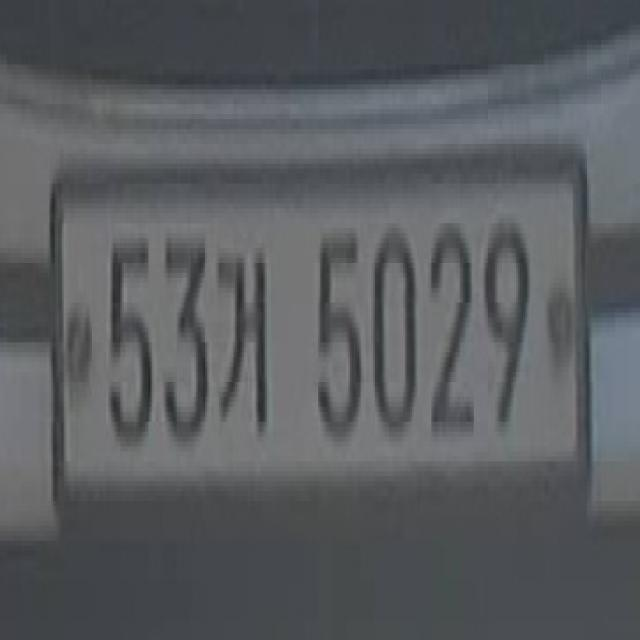0: (364, 214, 419, 446)
2: (420, 204, 482, 456)
3: (161, 224, 216, 456)
5: (104, 218, 158, 472), (318, 224, 364, 456)
9: (479, 223, 534, 437)
geo: (212, 238, 278, 442)
license_plate: (42, 144, 598, 516)
